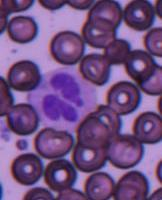N: (38, 66, 96, 130)
